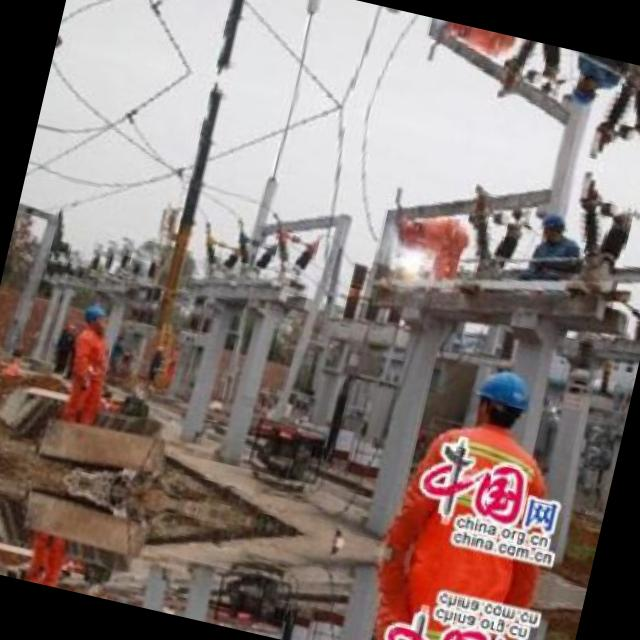helmet: (468, 360, 538, 434), (564, 73, 601, 110), (534, 205, 570, 242), (79, 298, 115, 332)
